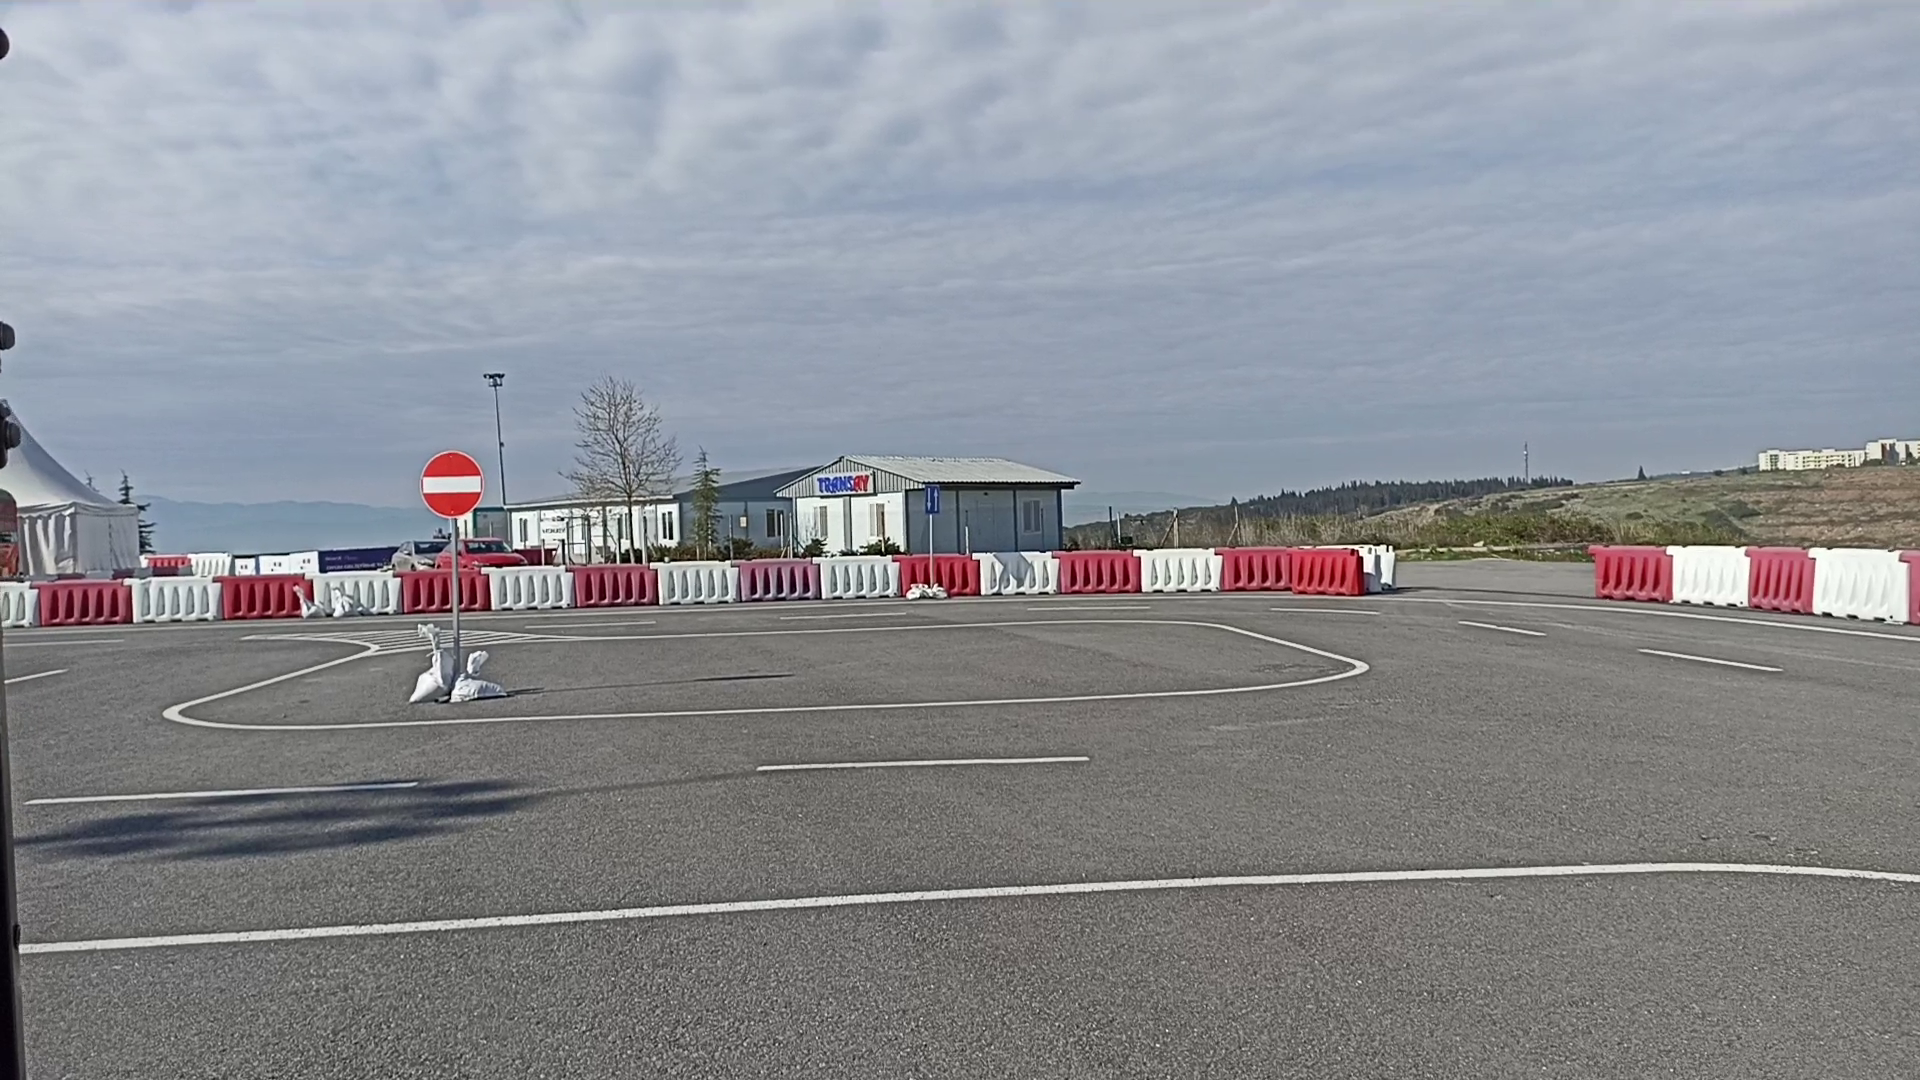noentryway: (418, 448, 487, 520)
